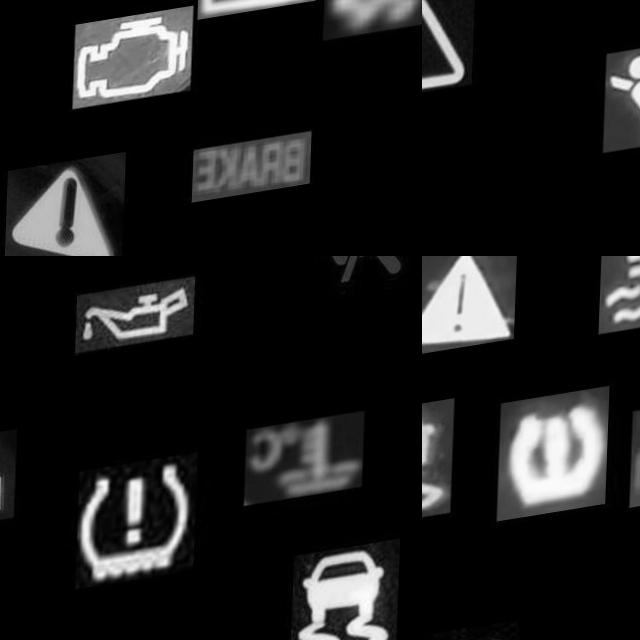Central Warning lamp: (8, 161, 129, 256), (422, 256, 518, 360), (422, 0, 478, 112)
Engine cooling system: (247, 430, 368, 521), (599, 256, 640, 343)
